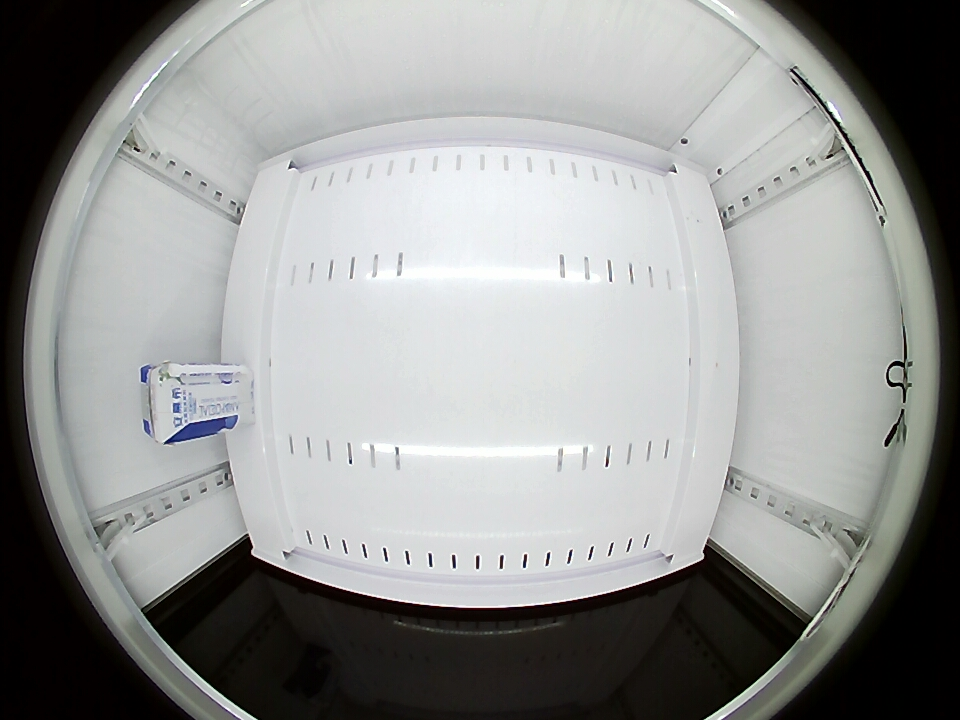anmuxi: (141, 362, 198, 445)
